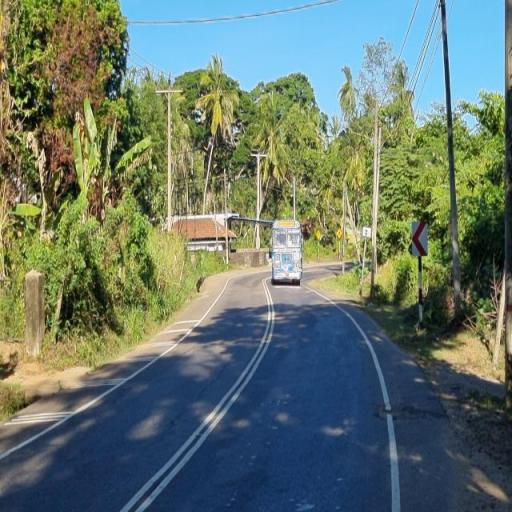double_white_line: (115, 281, 276, 512)
